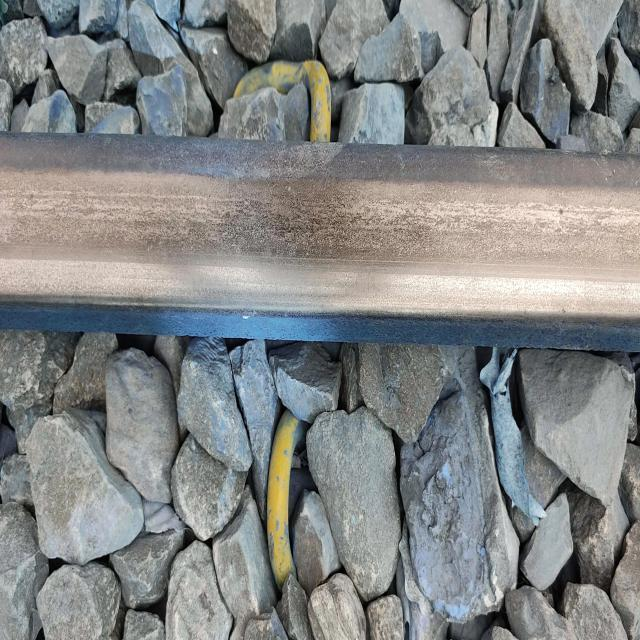Good Fasteners: (233, 60, 331, 142), (267, 411, 300, 590)
